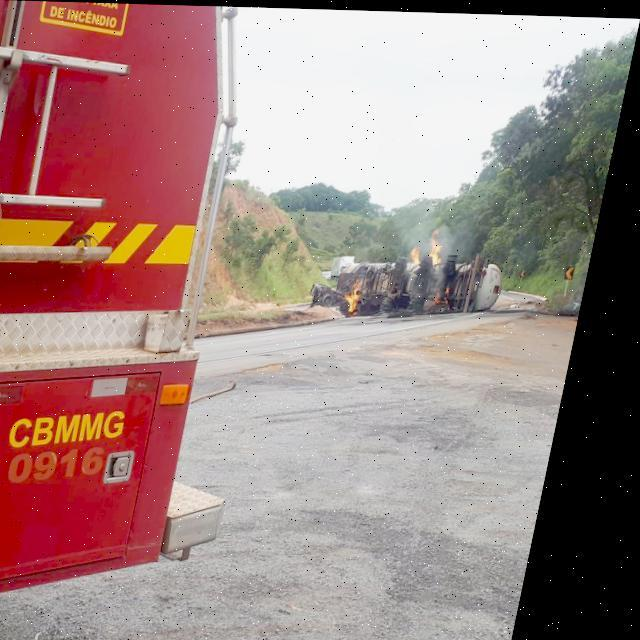Fire: (433, 228, 458, 262), (352, 279, 376, 310), (418, 242, 436, 260)
